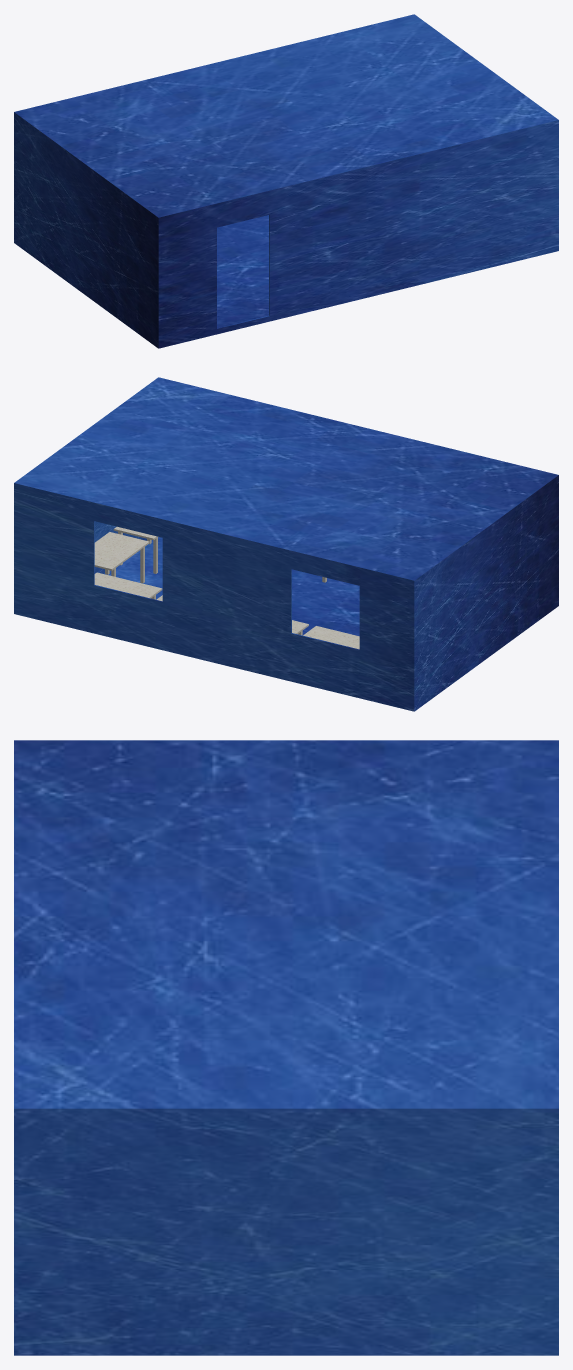
The model's file is pochelovecheski.obj.
The picture shows the model from 3 angles, top to bottom: view 1: azimuth 30°, elevation 25°; view 2: azimuth 150°, elevation 25°; view 3: azimuth 270°, elevation 25°; orthographic projection. The views are drawn at different scales.
Visible parts, largest first — view 1: Куб; view 2: Куб, Стол_Куб.006, Стол_Куб.003, Стол_Куб.004, Стол_Куб.005; view 3: Куб.
Part boxes in pixels (left/top/right/bottom): Куб: left=14, top=14, right=558, bottom=348; Куб: left=14, top=377, right=558, bottom=711; Стол_Куб.006: left=94, top=532, right=149, bottom=583; Стол_Куб.003: left=94, top=572, right=162, bottom=599; Стол_Куб.004: left=303, top=626, right=359, bottom=649; Стол_Куб.005: left=113, top=526, right=158, bottom=573; Куб: left=14, top=740, right=558, bottom=1355.
Size of the model in its own units: 48 by 15 by 30.
8 materials, 8 textured.
